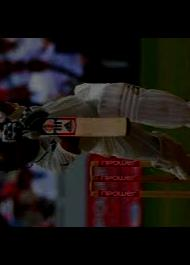batsman: (0, 57, 190, 192)
